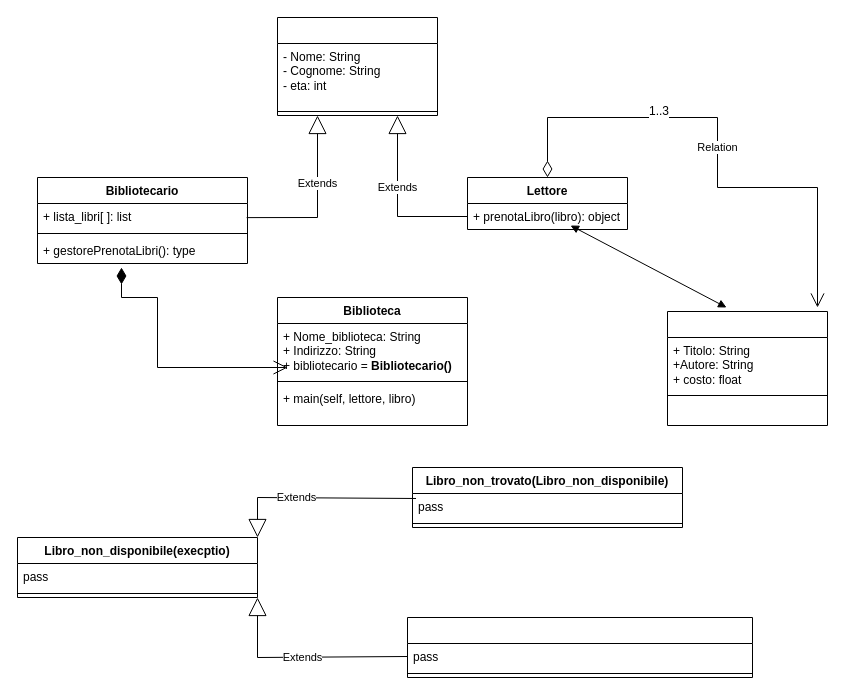
The diagram is 852 pixels wide and 695 high, and some of its shapes have lost their labels. The box of each missing label's shape, as (x1, y1, x2, y2) in pixels:
Lettore_ha_già_troppi_libri(Libro_non_disponibile): (406, 616, 752, 678)
Libro: (666, 310, 828, 426)
Persona: (276, 16, 438, 116)
